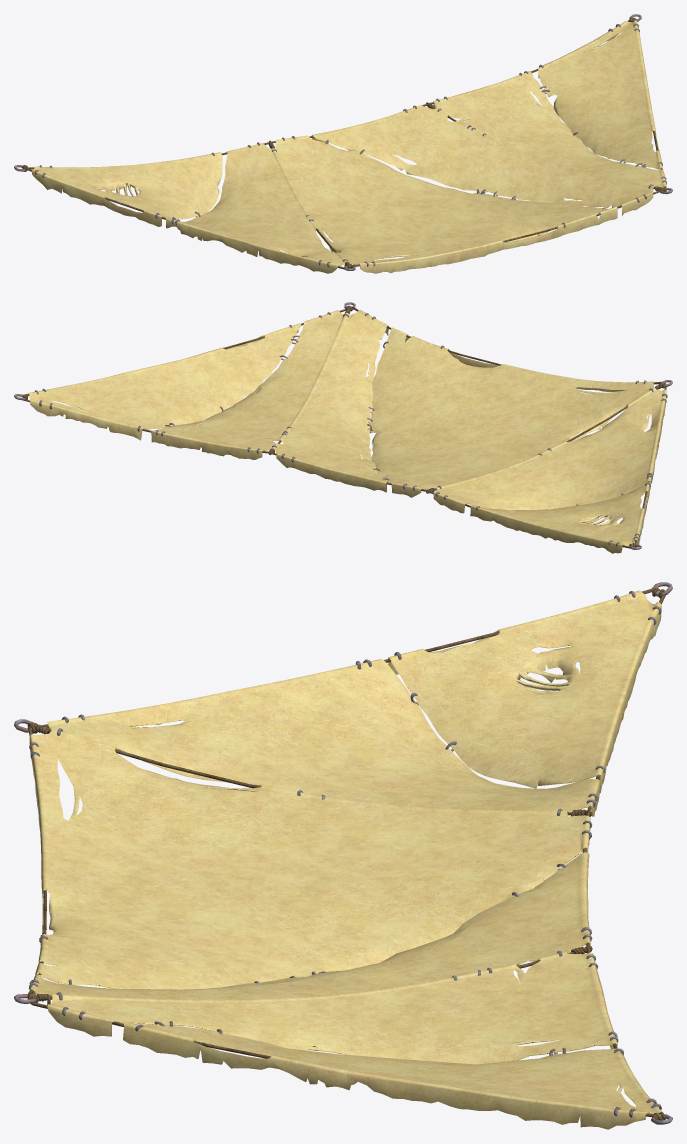
3 renders of one model, top to bottom at view 1: azimuth 30°, elevation 25°; view 2: azimuth 150°, elevation 25°; view 3: azimuth 270°, elevation 25°, orthographic. The views are drawn at different scales.
Parts seen in each view (by area): view 1: SM_Moon_Garou_Overhang_Trapezium_Dmg_01v1_LOD0; view 2: SM_Moon_Garou_Overhang_Trapezium_Dmg_01v1_LOD0; view 3: SM_Moon_Garou_Overhang_Trapezium_Dmg_01v1_LOD0.
Part boxes in pixels (x1,y1,x2,y2): SM_Moon_Garou_Overhang_Trapezium_Dmg_01v1_LOD0: (14, 14, 672, 273); SM_Moon_Garou_Overhang_Trapezium_Dmg_01v1_LOD0: (14, 302, 672, 553); SM_Moon_Garou_Overhang_Trapezium_Dmg_01v1_LOD0: (14, 582, 672, 1129).
Bounding box in the file's own units: 28.65 × 2.31 × 14.78.
3 materials, 3 textured.
